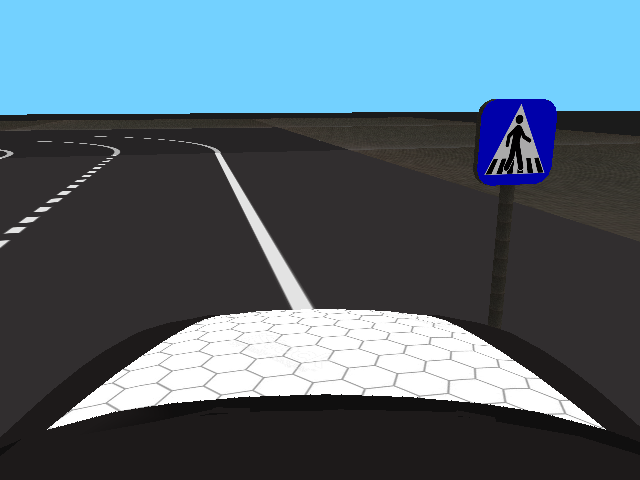pedestrian_cross: (476, 100, 557, 184)
